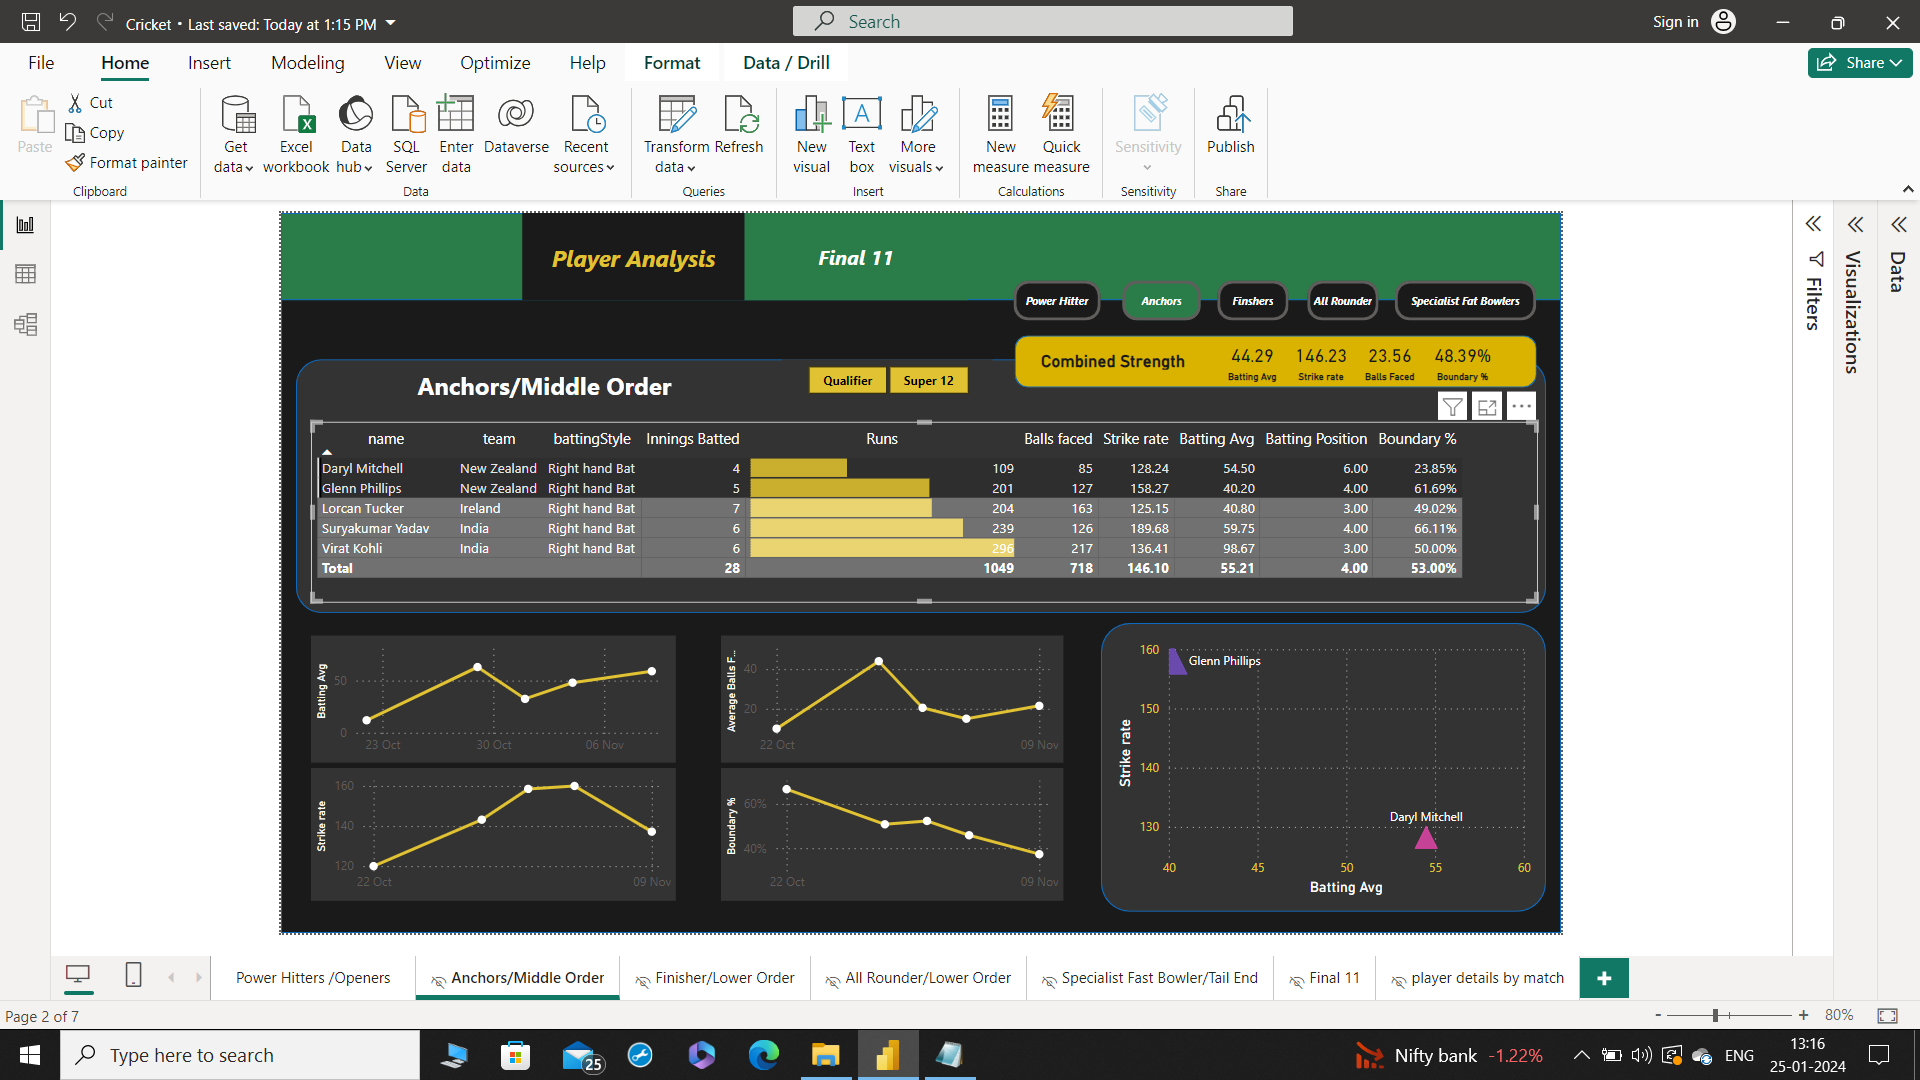

The page's visual inventory and layout, read from the dashboard file:
{"tool":"powerbi","page":{"name":"Anchors/Middle Order","canvas":[1280,720],"ordinal":1},"visuals":[{"type":"shape","box":[0,78.8,1280,641.2],"z":0},{"type":"shape","box":[0,0,1280,87.1],"z":1000},{"type":"lineChart","fields":{"Y":["Key Measures.Batting Avg"],"Category":["dim_match_summary.matchDate"]},"box":[30,422.5,365,127.5],"z":2000},{"type":"lineChart","fields":{"Y":["Key Measures.Strike rate"],"Category":["dim_match_summary.matchDate"]},"box":[30,555,365,132.5],"z":3000},{"type":"lineChart","fields":{"Y":["Key Measures.Boundary %"],"Category":["dim_match_summary.matchDate"]},"box":[440,555,342.5,132.5],"z":4000},{"type":"lineChart","fields":{"Y":["Key Measures.Average Balls Faced"],"Category":["dim_match_summary.matchDate"]},"box":[440,422.5,342.5,127.5],"z":5000},{"type":"actionButton","box":[241.2,0,222.5,87.5],"z":6000},{"type":"shape","box":[820,410,445,288.8],"z":7000},{"type":"actionButton","box":[463.8,0,222.5,87.5],"z":8000},{"type":"actionButton","box":[732.9,67.1,87.1,40],"z":9000},{"type":"shape","box":[15,146.2,1250,253.8],"z":10000},{"type":"actionButton","box":[841.4,67.1,78.6,40],"z":11000},{"type":"actionButton","box":[935.7,67.1,71.4,40],"z":12000},{"type":"actionButton","box":[1114.3,67.1,141.4,40],"z":13000},{"type":"slicer","fields":{"Values":["dim_match_summary.stage"]},"box":[501.2,146.2,210,41.2],"z":15000},{"type":"scatterChart","fields":{"X":["Key Measures.Batting Avg"],"Y":["Key Measures.Strike rate"],"Category":["dim_players.name"],"Series":["dim_players.name"],"Size":["Key Measures.Total Runs"]},"box":[831.2,422.5,423.8,265],"z":16000},{"type":"textbox","box":[105.7,151.4,314.3,45.7],"z":17000},{"type":"tableEx","title":"Shortlisted Based On Criteria","fields":{"Values":["dim_players.name","dim_players.team","dim_players.battingStyle","Key Measures.Total Innings Batted","Key Measures.Total Runs","Key Measures.total balls faced","Key Measures.Strike rate","Key Measures.Batting Avg","Key Measures.Batting Position","Key Measures.Boundary %"]},"box":[30,208.6,1225.7,181.4],"z":18000},{"type":"actionButton","box":[1025.7,67.1,71.4,40],"z":19000},{"type":"shape","box":[733.1,122.5,521.9,51.9],"z":19001},{"type":"textbox","title":"Combined Strength","box":[755,137.5,162.5,21.2],"z":19002},{"type":"card","fields":{"Values":["Key Measures.Batting Avg"]},"box":[940,122.1,62.9,51.4],"z":19003},{"type":"card","fields":{"Values":["Key Measures.Strike rate"]},"box":[1008.6,122.1,62.9,51.4],"z":19004},{"type":"card","fields":{"Values":["Key Measures.Average Balls Faced"]},"box":[1077.1,122.9,62.9,51.4],"z":19005},{"type":"card","fields":{"Values":["Key Measures.Boundary %"]},"box":[1147.1,122.1,68.6,51.4],"z":19006},{"type":"card","fields":{"Values":["Key Measures.Display Text"]},"box":[746.2,132.5,493.8,32.5],"z":19007}]}

Visuals, with their boxes on the page's 1280x720 design canvas (x1, y1, x2, y2). These are canvas units, not pixel positions in the 1920x1080 screenshot, which may show the page scaled, cropped or inside an application window:
shape: (left=0, top=79, right=1280, bottom=720)
shape: (left=0, top=0, right=1280, bottom=87)
lineChart - Key Measures.Batting Avg x dim_match_summary.matchDate: (left=30, top=422, right=395, bottom=550)
lineChart - Key Measures.Strike rate x dim_match_summary.matchDate: (left=30, top=555, right=395, bottom=688)
lineChart - Key Measures.Boundary % x dim_match_summary.matchDate: (left=440, top=555, right=782, bottom=688)
lineChart - Key Measures.Average Balls Faced x dim_match_summary.matchDate: (left=440, top=422, right=782, bottom=550)
actionButton: (left=241, top=0, right=464, bottom=88)
shape: (left=820, top=410, right=1265, bottom=699)
actionButton: (left=464, top=0, right=686, bottom=88)
actionButton: (left=733, top=67, right=820, bottom=107)
shape: (left=15, top=146, right=1265, bottom=400)
actionButton: (left=841, top=67, right=920, bottom=107)
actionButton: (left=936, top=67, right=1007, bottom=107)
actionButton: (left=1114, top=67, right=1256, bottom=107)
slicer - dim_match_summary.stage: (left=501, top=146, right=711, bottom=187)
scatterChart - Key Measures.Batting Avg x Key Measures.Strike rate: (left=831, top=422, right=1255, bottom=688)
textbox: (left=106, top=151, right=420, bottom=197)
"Shortlisted Based On Criteria" tableEx: (left=30, top=209, right=1256, bottom=390)
actionButton: (left=1026, top=67, right=1097, bottom=107)
shape: (left=733, top=122, right=1255, bottom=174)
"Combined Strength" textbox: (left=755, top=138, right=918, bottom=159)
card - Key Measures.Batting Avg: (left=940, top=122, right=1003, bottom=174)
card - Key Measures.Strike rate: (left=1009, top=122, right=1072, bottom=174)
card - Key Measures.Average Balls Faced: (left=1077, top=123, right=1140, bottom=174)
card - Key Measures.Boundary %: (left=1147, top=122, right=1216, bottom=174)
card - Key Measures.Display Text: (left=746, top=132, right=1240, bottom=165)
